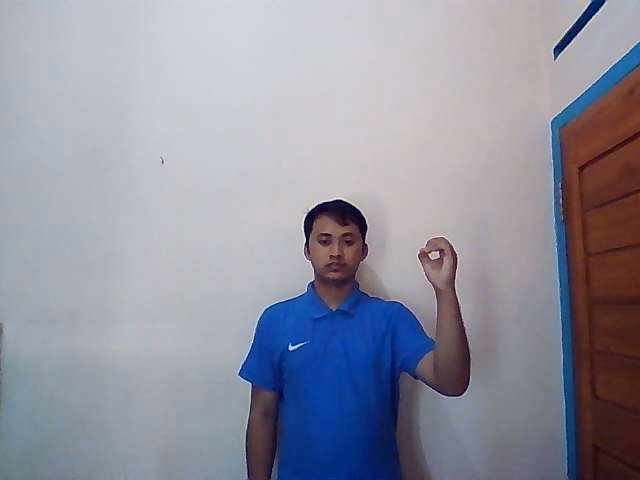O: (414, 233, 461, 289)
